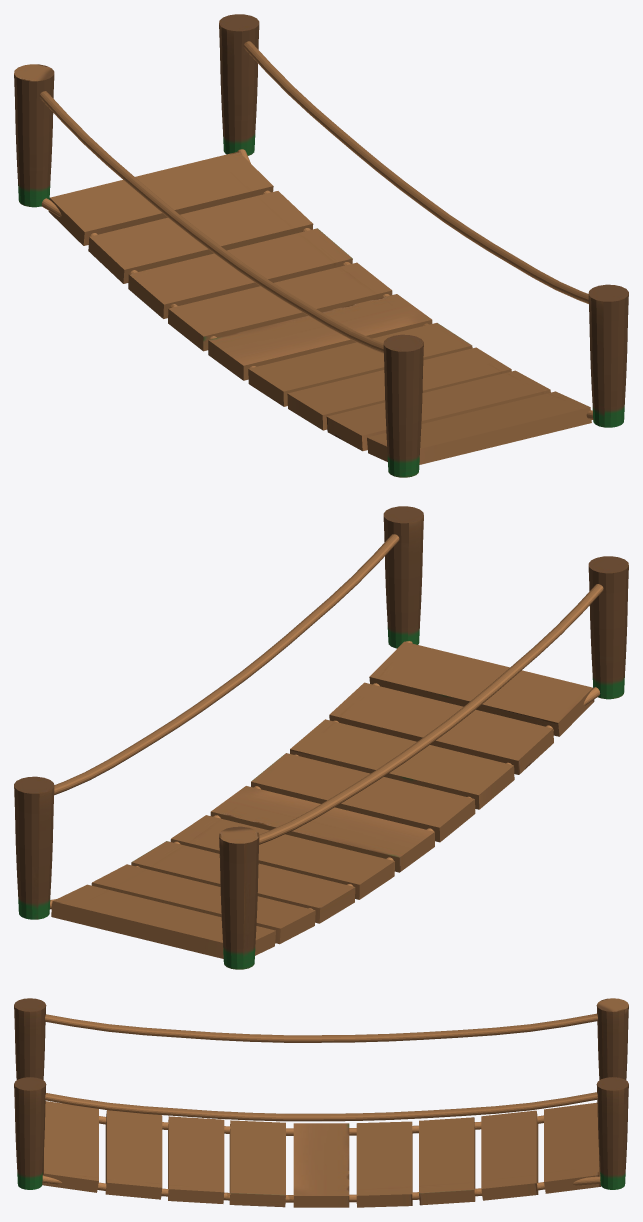
The model's file is Bridge.fbx.
3 views of the same model, one above another, from view 1: azimuth 30°, elevation 25°; view 2: azimuth 150°, elevation 25°; view 3: azimuth 270°, elevation 25° (orthographic). The views are drawn at different scales.
Parts seen in each view (by area): view 1: Cylinder.008; view 2: Cylinder.008; view 3: Cylinder.008.
Part boxes in pixels (box(x1,y1,x2,y2)): Cylinder.008: box(14, 14, 628, 477); Cylinder.008: box(14, 506, 628, 969); Cylinder.008: box(14, 998, 628, 1207).
Size of the model in its own units: 786 by 505 by 2210.
Materials: 1 (1 with a texture image).
